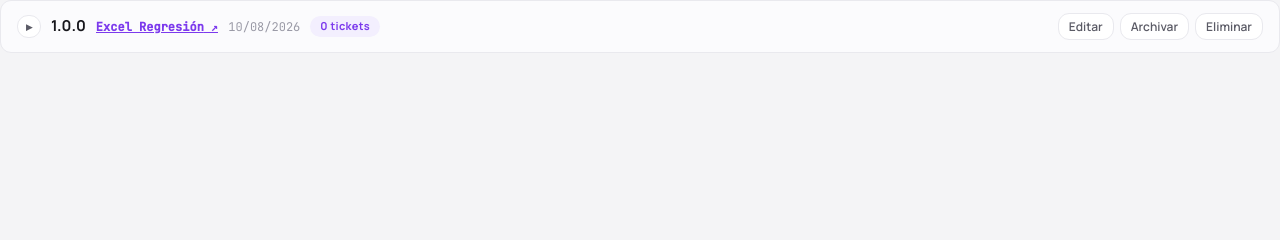
Test case: RegressionCard › starts collapsed and expands to show the ticket table with its headers and 3 rows
Expected: the text "Prioridad" is not shown
Click the button named "Mostrar u ocultar tickets". click: (29, 26)
box: x1=17 y1=15 x2=41 y2=38
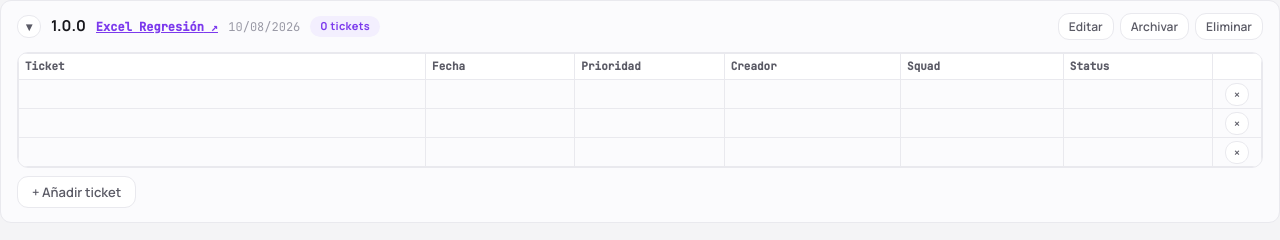
Expected: the column heading "Ticket" is shown, x1=18 y1=54 x2=426 y2=80
Expected: the column heading "Prioridad" is shown, x1=575 y1=54 x2=724 y2=80
Expected: the column heading "Creador" is shown, x1=724 y1=54 x2=900 y2=80
